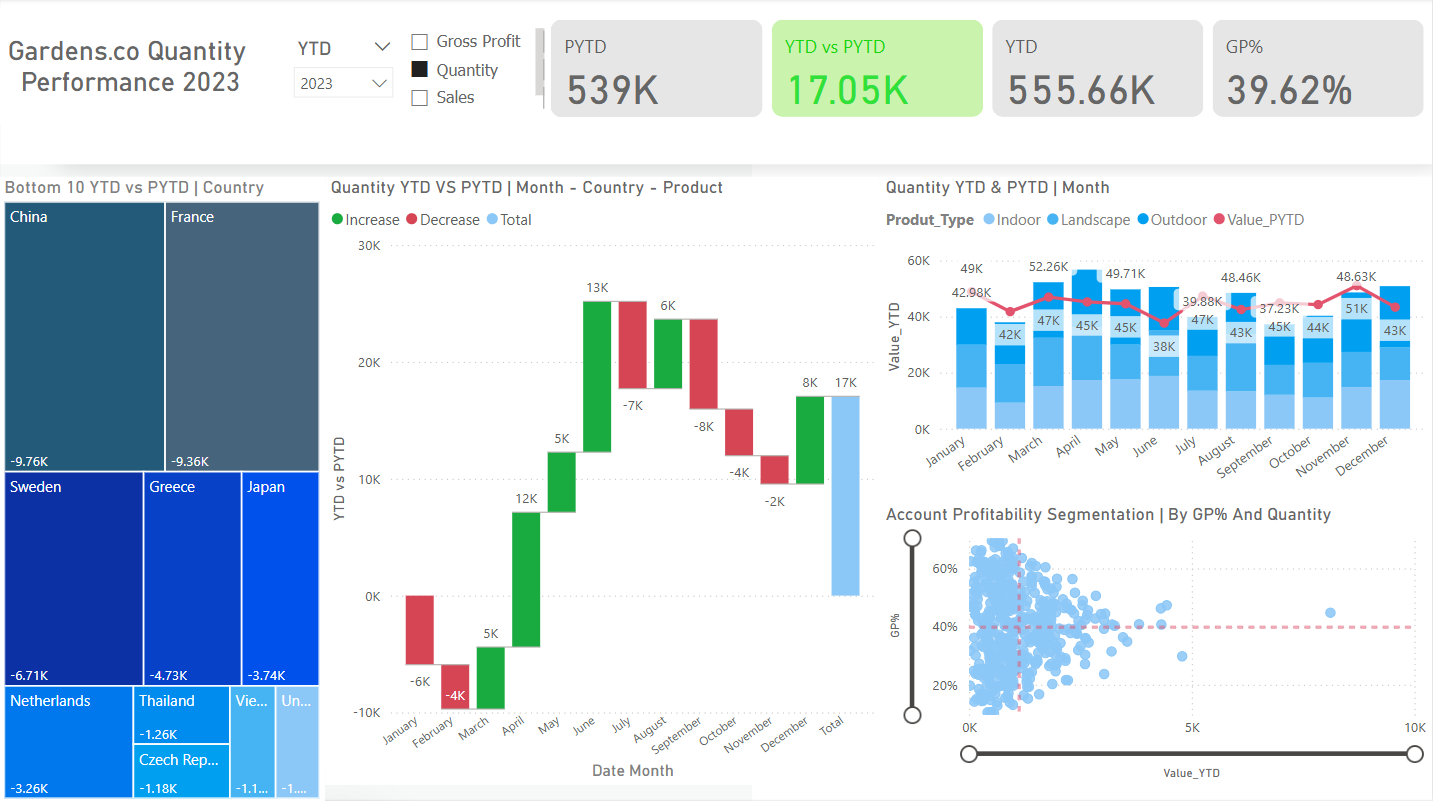

Layout of this report page (visuals, bound fields, positions):
{"tool":"powerbi","page":{"name":"Performance_report","canvas":[1280,720],"ordinal":0},"visuals":[{"type":"cardVisual","fields":{"Data":["formulas.sl_PYTD","formulas.YTD vs PYTD","formulas.sl_YTD","formulas.GP%"]},"box":[488,14.5,792.8,97.1],"z":0},{"type":"slicer","fields":{"Values":["slicer_values.Values"]},"box":[358.4,24.6,129.5,78.2],"z":1000},{"type":"slicer","fields":{"Values":["date_data.Date.Variation.Date Hierarchy.Year"]},"box":[254.6,31.3,103.8,64.8],"z":2000},{"type":"treemap","title":"Bottom 10 YTD vs PYTD | Country","fields":{"Values":["formulas.YTD vs PYTD"],"Group":["Accounts_data.country"]},"box":[0,159.7,291.4,560.5],"z":3000},{"type":"waterfallChart","fields":{"Y":["formulas.YTD vs PYTD"],"Category":["date_data.Date.Variation.Date Hierarchy.Month","Accounts_data.country","product_data.Produt_Type","product_data.Product_Name"]},"box":[291.8,159.4,495.3,543.1],"z":4000},{"type":"lineStackedColumnComboChart","fields":{"Y":["formulas.sl_YTD"],"Y2":["formulas.sl_PYTD"],"Category":["date_data.Date.Variation.Date Hierarchy.Month","date_data.Date.Variation.Date Hierarchy.Quarter"],"Series":["product_data.Produt_Type"]},"box":[787.1,159.4,492.9,293],"z":5000},{"type":"scatterChart","fields":{"Y":["formulas.GP%"],"X":["formulas.sl_YTD"],"Category":["Accounts_data.Account"]},"box":[787.4,452.3,492.3,250.6],"z":5001},{"type":"card","fields":{"Values":["formulas.Report_title"]},"box":[0,7.8,228.9,103.8],"z":5002}]}

Visuals, with their boxes in screenshot pixels (x1, y1, x2, y2), scaled from the page's 1280x720 canvas onto the 1433x801 screenshot:
cardVisual - formulas.sl_PYTD x formulas.YTD vs PYTD: [546,16,1432,124]
slicer - slicer_values.Values: [401,27,546,114]
slicer - date_data.Date.Variation.Date Hierarchy.Year: [285,35,401,107]
"Bottom 10 YTD vs PYTD | Country" treemap: [0,178,326,800]
waterfallChart - formulas.YTD vs PYTD x date_data.Date.Variation.Date Hierarchy.Month: [327,177,881,782]
lineStackedColumnComboChart - formulas.sl_YTD x formulas.sl_PYTD: [881,177,1432,503]
scatterChart - formulas.GP% x formulas.sl_YTD: [882,503,1432,782]
card - formulas.Report_title: [0,9,256,124]
